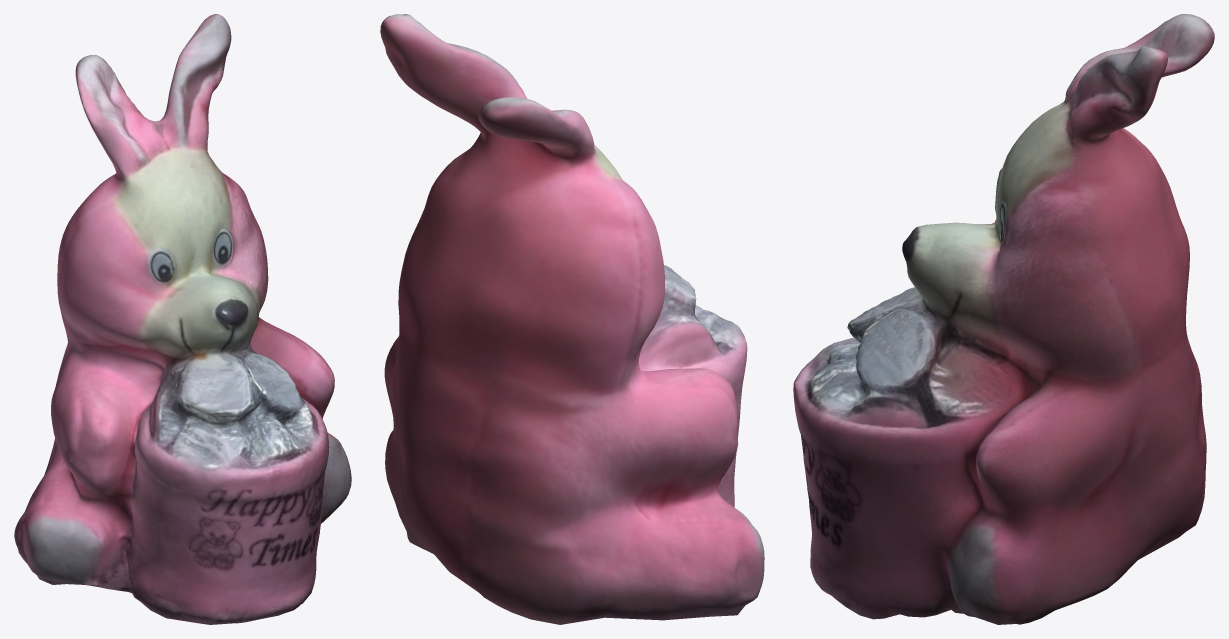
3 views of the same model, side by side, from view 1: azimuth 30°, elevation 25°; view 2: azimuth 150°, elevation 25°; view 3: azimuth 270°, elevation 25° (orthographic). The views are drawn at different scales.
Visible parts, largest first — view 1: 3DModel; view 2: 3DModel; view 3: 3DModel.
Boxes of the visible parts, x1=… form: 3DModel: x1=14, y1=14, x2=351, y2=624; 3DModel: x1=380, y1=14, x2=764, y2=624; 3DModel: x1=793, y1=14, x2=1214, y2=624.
Size of the model in its own units: 0.4461 by 0.6746 by 0.4375.
Materials: 1 (1 with a texture image).
